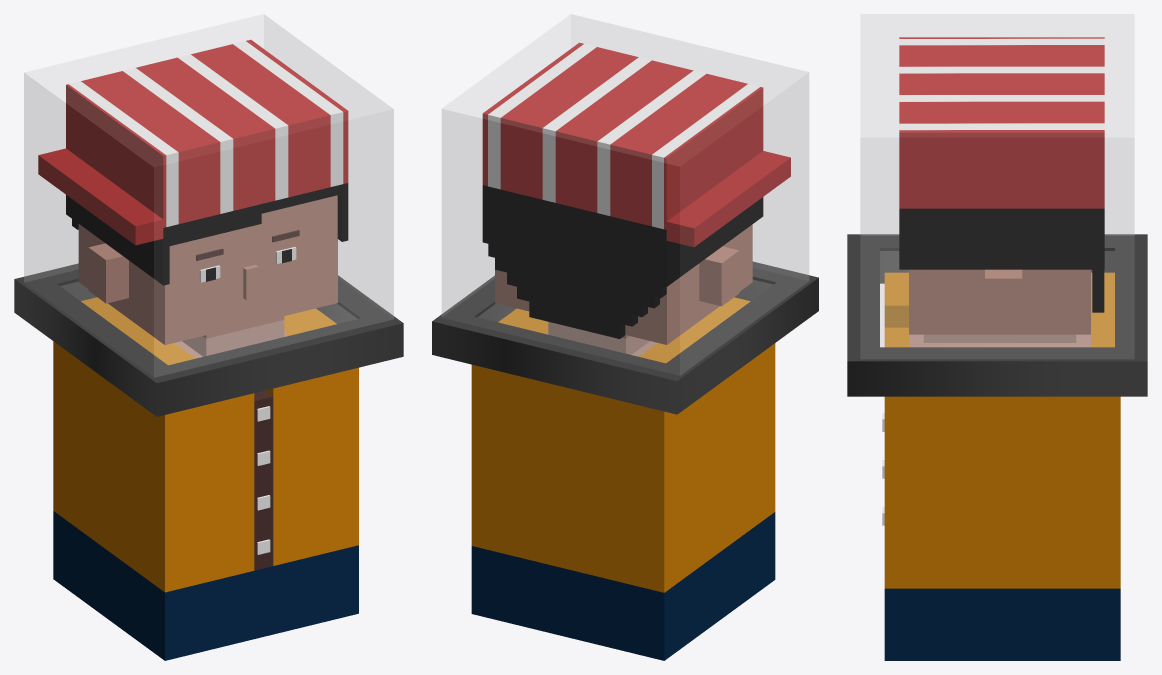
The picture shows the model from 3 angles, left to right: view 1: azimuth 30°, elevation 25°; view 2: azimuth 150°, elevation 25°; view 3: azimuth 270°, elevation 25°; orthographic projection. The views are drawn at different scales.
Parts seen in each view (by area): view 1: Rectangle010, Object003, Box060, Rectangle009, Box068, Box069; view 2: Rectangle010, Object003, Box060, Rectangle009, Box061, Box068; view 3: Rectangle010, Object003, Box060, Rectangle009, Box068, Box061.
Boxes of the visible parts, x1,y1,x2,y2 form: Rectangle010: (24,14,393,377); Object003: (53,195,358,660); Box060: (38,39,348,285); Rectangle009: (14,263,403,416); Box068: (88,243,128,303); Box069: (257,406,270,554); Rectangle010: (442,14,808,375); Object003: (471,224,775,660); Box060: (482,42,790,287); Rectangle009: (432,261,818,414); Box061: (488,244,666,338); Box068: (699,246,739,306); Rectangle010: (860,14,1134,358); Object003: (884,269,1120,660); Box060: (899,37,1104,269); Rectangle009: (847,234,1147,396); Box068: (985,269,1022,324); Box061: (1092,269,1104,312).
Bounding box in the file's own units: 0.0254 × 0.05 × 0.0254.
12 materials, 1 textured.
